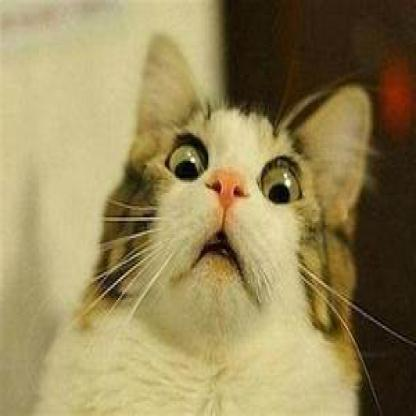cat: (31, 73, 372, 414)
